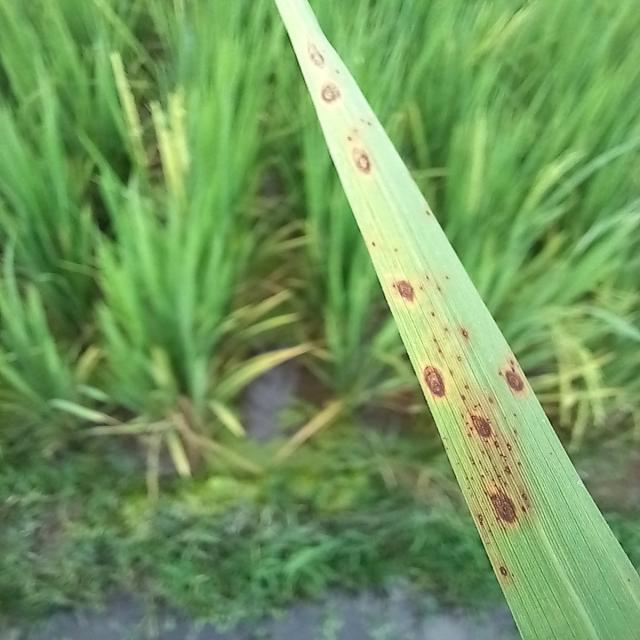Brown_Spot: (423, 365, 448, 398), (503, 370, 525, 396), (472, 415, 492, 438), (396, 280, 415, 303), (463, 329, 468, 339), (433, 338, 437, 342), (432, 312, 435, 316)
